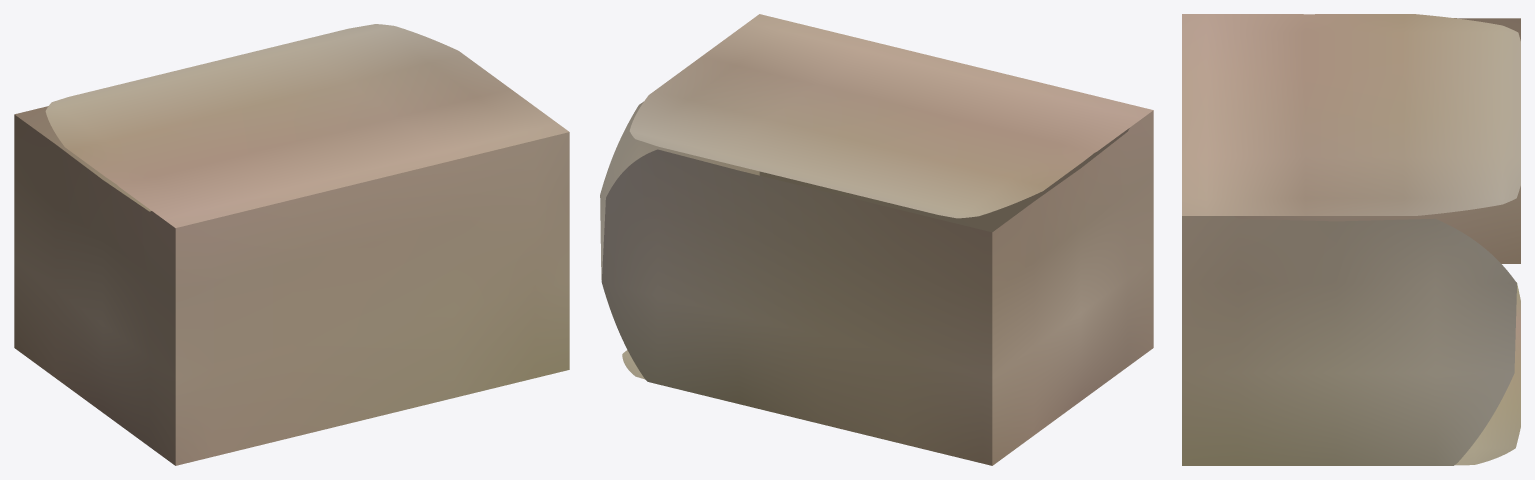
File: cardboard-box.gltf
The picture shows the model from 3 angles, left to right: view 1: azimuth 30°, elevation 25°; view 2: azimuth 150°, elevation 25°; view 3: azimuth 270°, elevation 25°; orthographic projection. The views are drawn at different scales.
Visible parts, largest first — view 1: Cardboard_box; view 2: Cardboard_box; view 3: Cardboard_box.
Boxes of the visible parts, x1=… form: Cardboard_box: x1=14, y1=24, x2=569, y2=465; Cardboard_box: x1=600, y1=14, x2=1153, y2=465; Cardboard_box: x1=1182, y1=14, x2=1520, y2=465.
Bounding box in the file's own units: 0.5056 × 0.2915 × 0.3583.
1 material, 1 textured.
